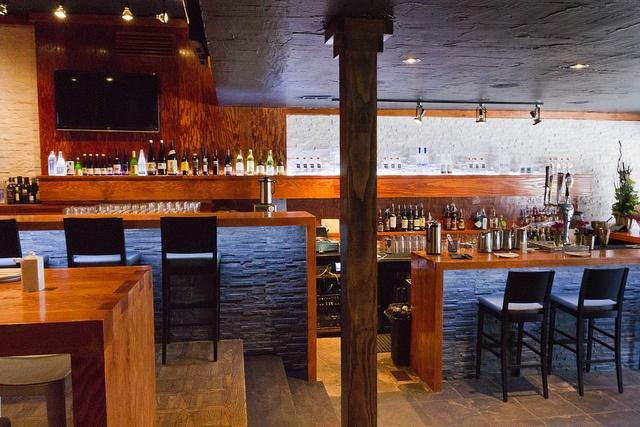Kursi: (475, 268, 555, 401), (548, 266, 627, 395), (159, 215, 220, 362), (62, 216, 141, 267)
